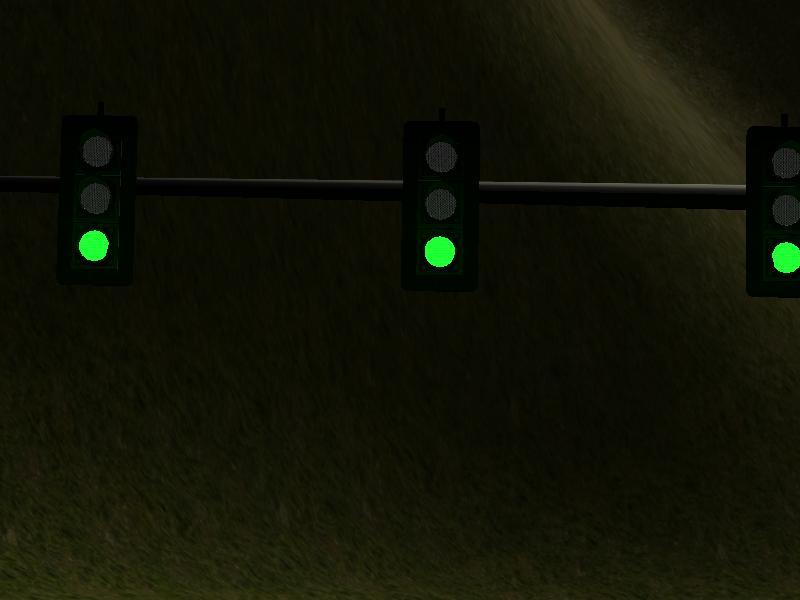Green: (400, 122, 479, 285), (69, 116, 132, 283), (751, 126, 800, 292)
